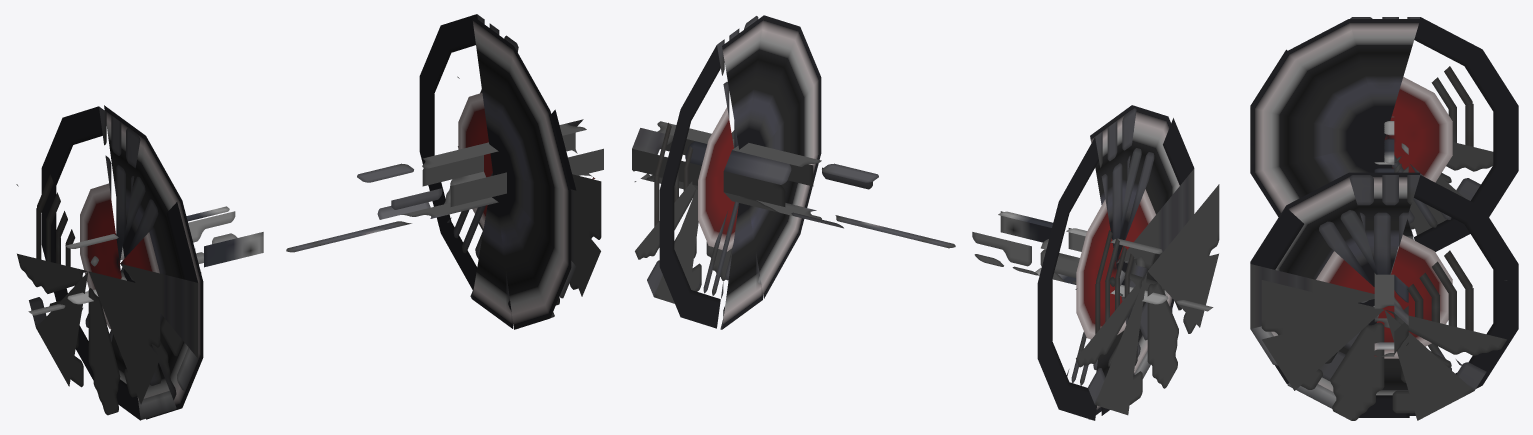
File: wheel.obj
3 views of the same model, side by side, from view 1: azimuth 30°, elevation 25°; view 2: azimuth 150°, elevation 25°; view 3: azimuth 270°, elevation 25° (orthographic). The views are drawn at different scales.
Visible parts, largest first — view 1: ed4d8a76-e9fb-a435-20fd-05a78d055d5c, f4695156-b87a-e15d-53ae-9a8963bec420, cd96d2ab-3baa-d53e-5fbd-a4d8a1a4890b, f1cab636-6521-21e9-2bfb-e5976b235ce5, b4c3dcb2-6985-192f-a620-0de1d2c853ee; view 2: ed4d8a76-e9fb-a435-20fd-05a78d055d5c, f4695156-b87a-e15d-53ae-9a8963bec420, cd96d2ab-3baa-d53e-5fbd-a4d8a1a4890b, f1cab636-6521-21e9-2bfb-e5976b235ce5, b4c3dcb2-6985-192f-a620-0de1d2c853ee; view 3: f4695156-b87a-e15d-53ae-9a8963bec420, ed4d8a76-e9fb-a435-20fd-05a78d055d5c, b4c3dcb2-6985-192f-a620-0de1d2c853ee, cd96d2ab-3baa-d53e-5fbd-a4d8a1a4890b, f1cab636-6521-21e9-2bfb-e5976b235ce5.
Part boxes in pixels (x1,y1,x2,y2): ed4d8a76-e9fb-a435-20fd-05a78d055d5c: [419, 14, 576, 329]; f4695156-b87a-e15d-53ae-9a8963bec420: [41, 105, 203, 420]; cd96d2ab-3baa-d53e-5fbd-a4d8a1a4890b: [16, 174, 160, 415]; f1cab636-6521-21e9-2bfb-e5976b235ce5: [28, 119, 603, 315]; b4c3dcb2-6985-192f-a620-0de1d2c853ee: [457, 76, 601, 305]; ed4d8a76-e9fb-a435-20fd-05a78d055d5c: [659, 15, 821, 329]; f4695156-b87a-e15d-53ae-9a8963bec420: [1037, 105, 1194, 420]; cd96d2ab-3baa-d53e-5fbd-a4d8a1a4890b: [1075, 184, 1219, 415]; f1cab636-6521-21e9-2bfb-e5976b235ce5: [632, 121, 1213, 311]; b4c3dcb2-6985-192f-a620-0de1d2c853ee: [634, 122, 734, 303]; f4695156-b87a-e15d-53ae-9a8963bec420: [1250, 17, 1518, 251]; ed4d8a76-e9fb-a435-20fd-05a78d055d5c: [1250, 172, 1518, 417]; b4c3dcb2-6985-192f-a620-0de1d2c853ee: [1261, 250, 1507, 420]; cd96d2ab-3baa-d53e-5fbd-a4d8a1a4890b: [1409, 66, 1493, 235]; f1cab636-6521-21e9-2bfb-e5976b235ce5: [1374, 116, 1408, 356].
Bounding box in the file's own units: 2.07 × 1 × 1.
